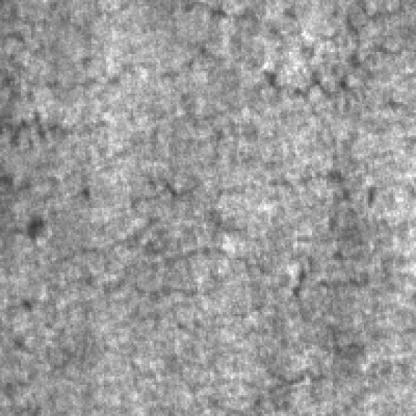crazing: (87, 165, 380, 298), (173, 0, 416, 92)
